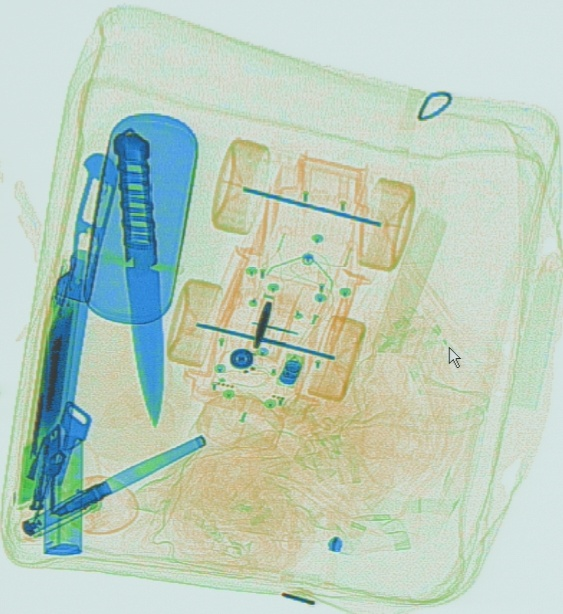knife: (44, 148, 120, 495), (110, 130, 171, 428)
